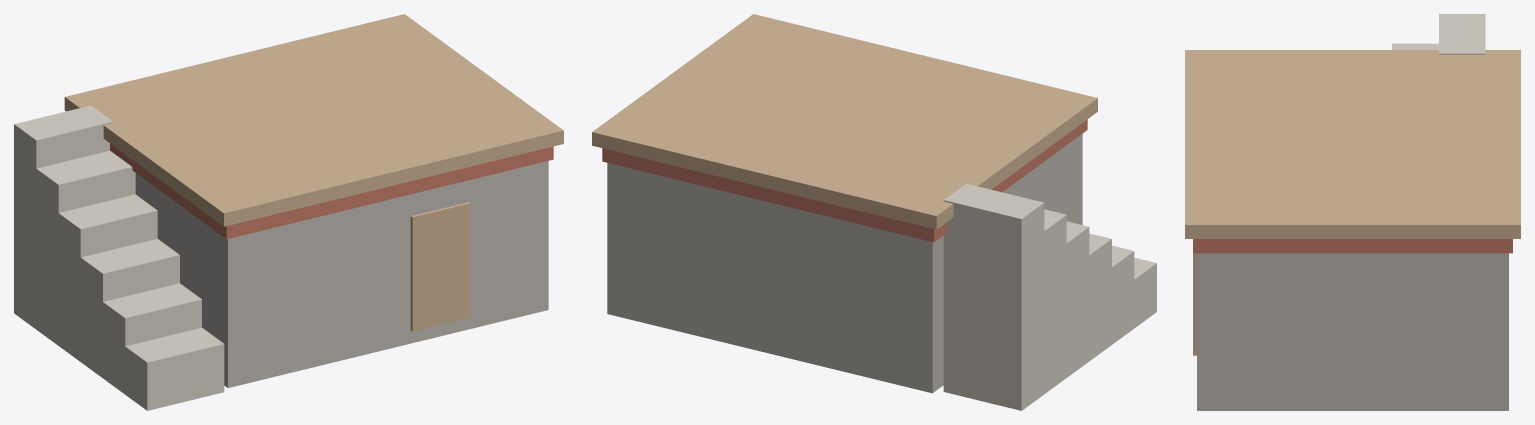
3 views of the same model, side by side, from view 1: azimuth 30°, elevation 25°; view 2: azimuth 150°, elevation 25°; view 3: azimuth 270°, elevation 25° (orthographic). The views are drawn at different scales.
Visible parts, largest first — view 1: WB_shelter; view 2: WB_shelter; view 3: WB_shelter.
Part boxes in pixels (<box>): WB_shelter: <box>14,14,563,410</box>; WB_shelter: <box>592,14,1156,410</box>; WB_shelter: <box>1185,14,1520,410</box>.
Size of the model in its own units: 6.35 by 2.82 by 4.3.
